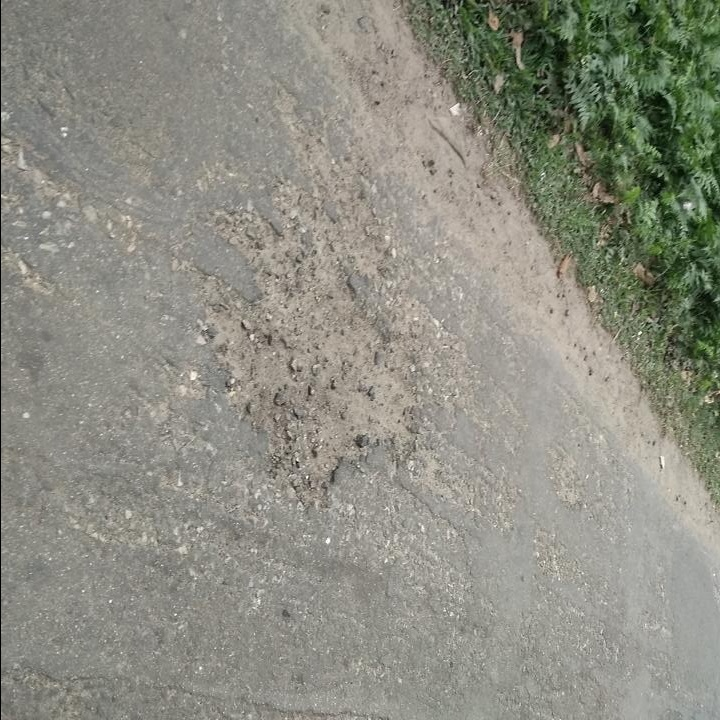pothole: (214, 242, 425, 495)
